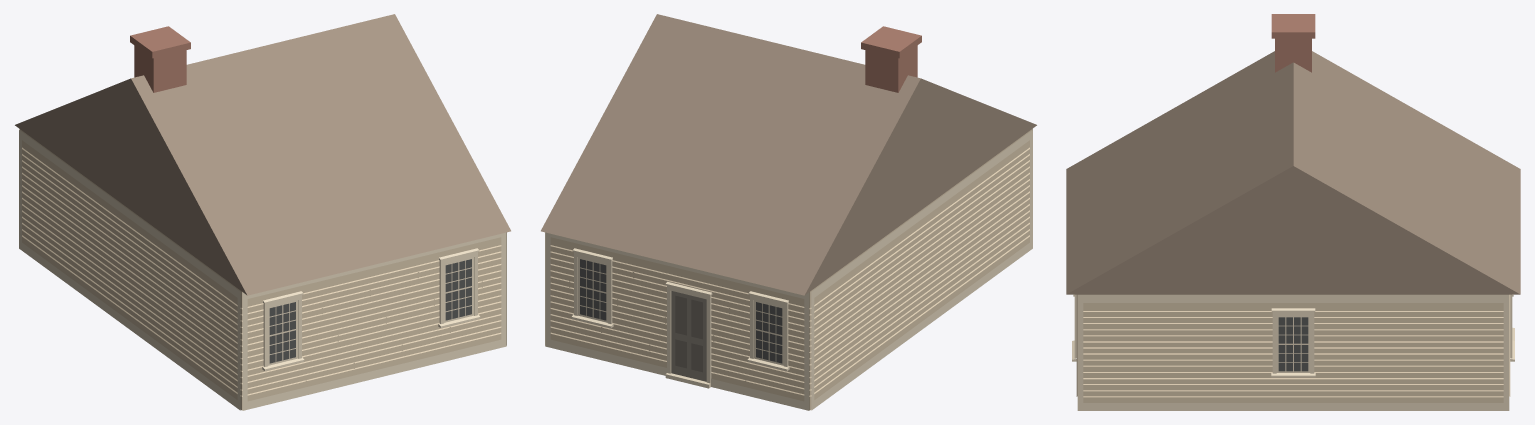
Rendered from recon_1835_west_045__inferred_1835.glb.
3 renders of one model, left to right at view 1: azimuth 30°, elevation 25°; view 2: azimuth 150°, elevation 25°; view 3: azimuth 270°, elevation 25°, orthographic. The views are drawn at different scales.
Visible parts, largest first — view 1: recon_1835_west_045__inferred_1835; view 2: recon_1835_west_045__inferred_1835; view 3: recon_1835_west_045__inferred_1835.
Boxes of the visible parts, <box> form: recon_1835_west_045__inferred_1835: <box>15,14,510,410</box>; recon_1835_west_045__inferred_1835: <box>541,14,1036,410</box>; recon_1835_west_045__inferred_1835: <box>1066,14,1520,410</box>.
Size of the model in its own units: 6.86 by 6.87 by 10.25.
